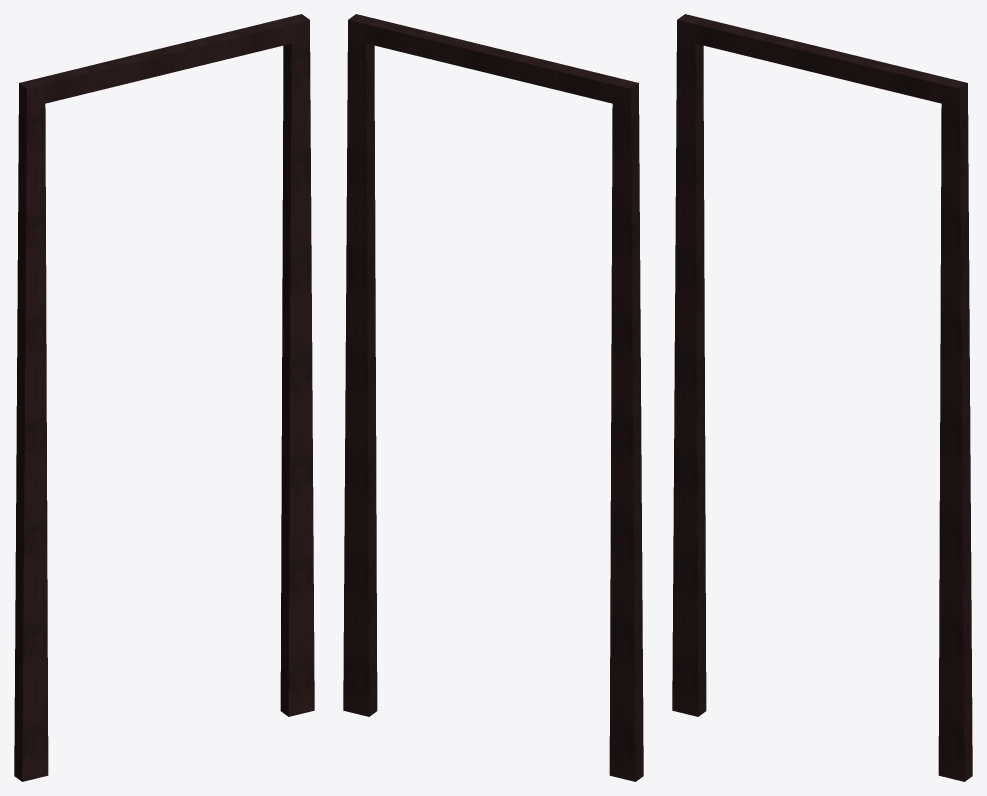
Rendered from door.FBX.
3 renders of one model, left to right at view 1: azimuth 30°, elevation 25°; view 2: azimuth 150°, elevation 25°; view 3: azimuth 330°, elevation 25°, orthographic.
Parts seen in each view (by area): view 1: pintu; view 2: pintu; view 3: pintu.
Boxes of the visible parts, x1,y1,x2,y2 form: pintu: [14, 14, 314, 781]; pintu: [343, 14, 643, 781]; pintu: [672, 14, 972, 781].
Bounding box in the file's own units: 35.43 × 80.13 × 1.69.
1 material, 1 textured.
